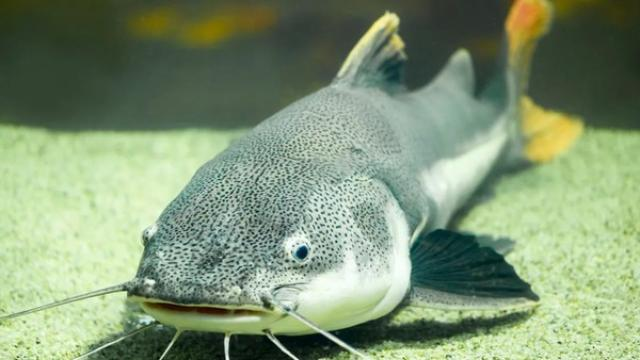Mulut: (111, 270, 289, 344)
Sirip Dada: (389, 220, 557, 336)
Sirip Ekor: (492, 1, 604, 182)
Sirip Punggung: (325, 4, 485, 103)
